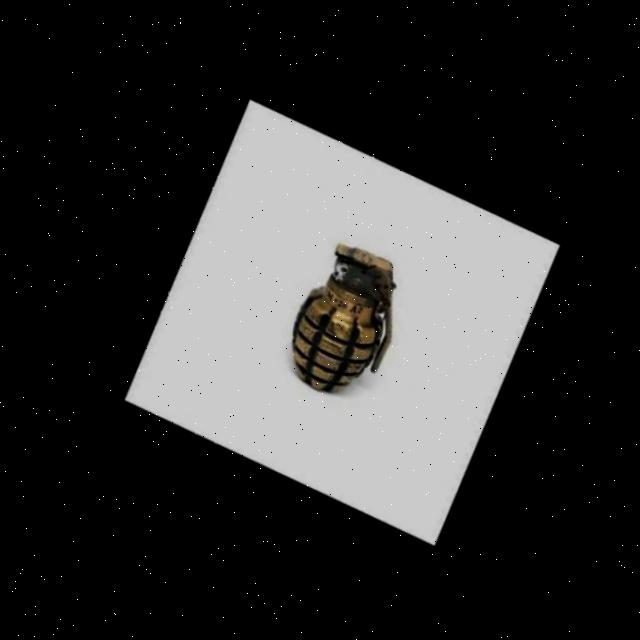grenade: (240, 208, 443, 420)
